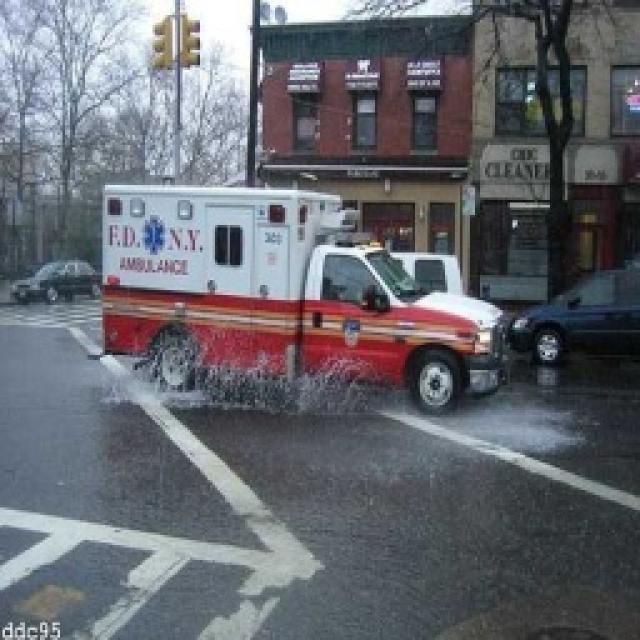emergency-vehicle: (105, 182, 506, 413)
